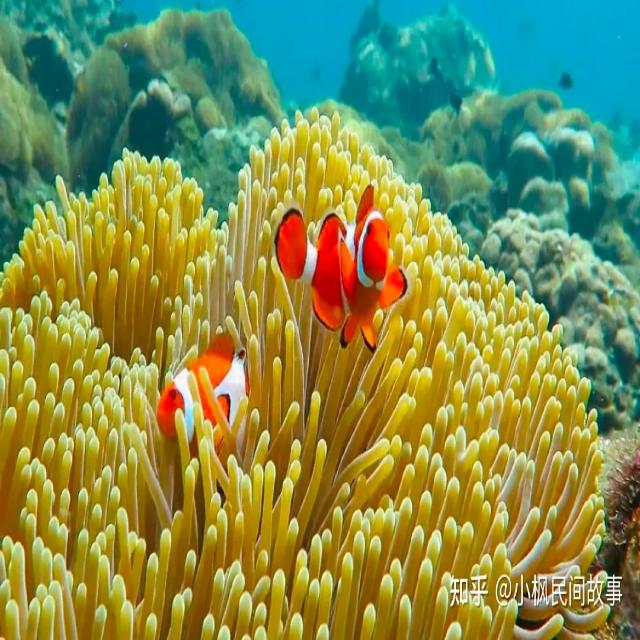ClownFish: (273, 177, 405, 360), (156, 331, 249, 442)
